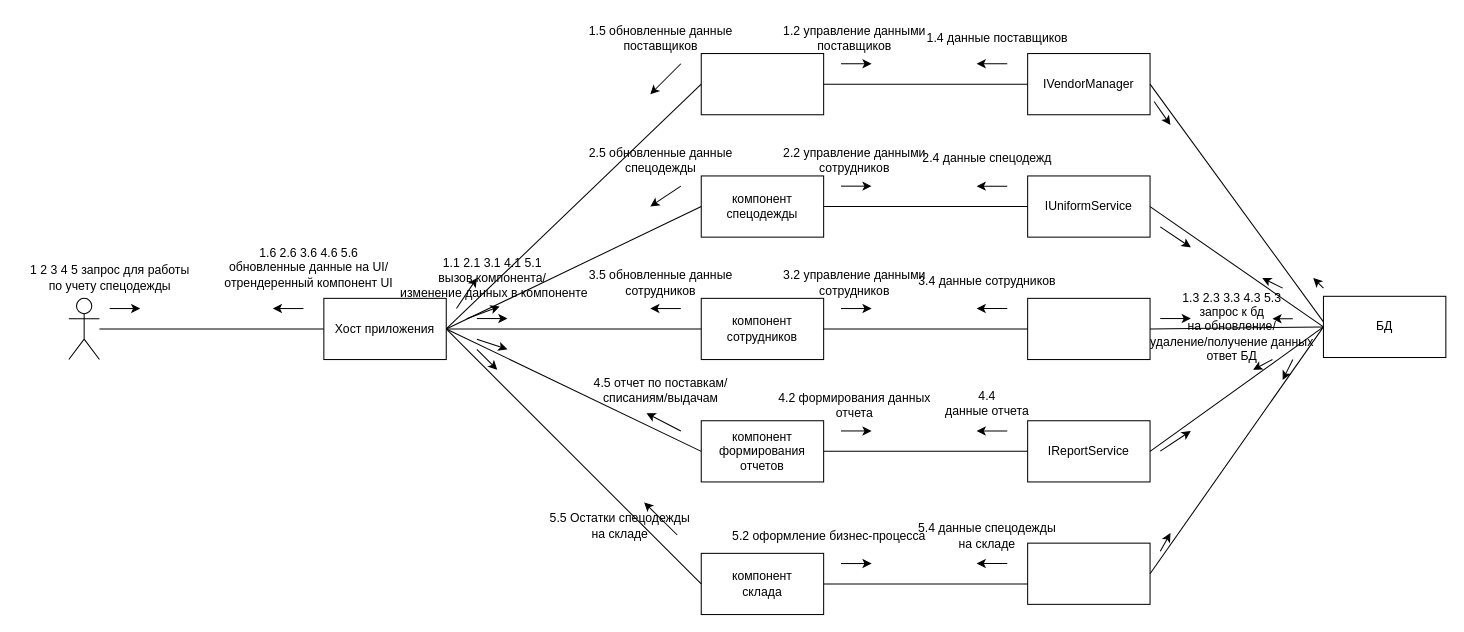
Image size: 1464x632. Some labels were removed from this diagram. The centre of each missing label's shape, as x and y in pixels:
"IEmployeesManager" belongs at point (1088, 328).
"IWarehouse" belongs at point (1088, 573).
"Заведующий спецодеждой" belongs at point (83, 328).
"компонент поставщиков" belongs at point (762, 84).
